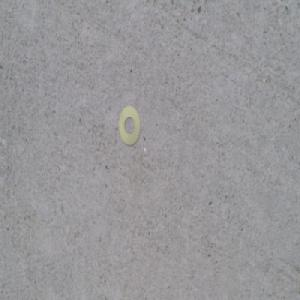Washer: (119, 104, 142, 146)
